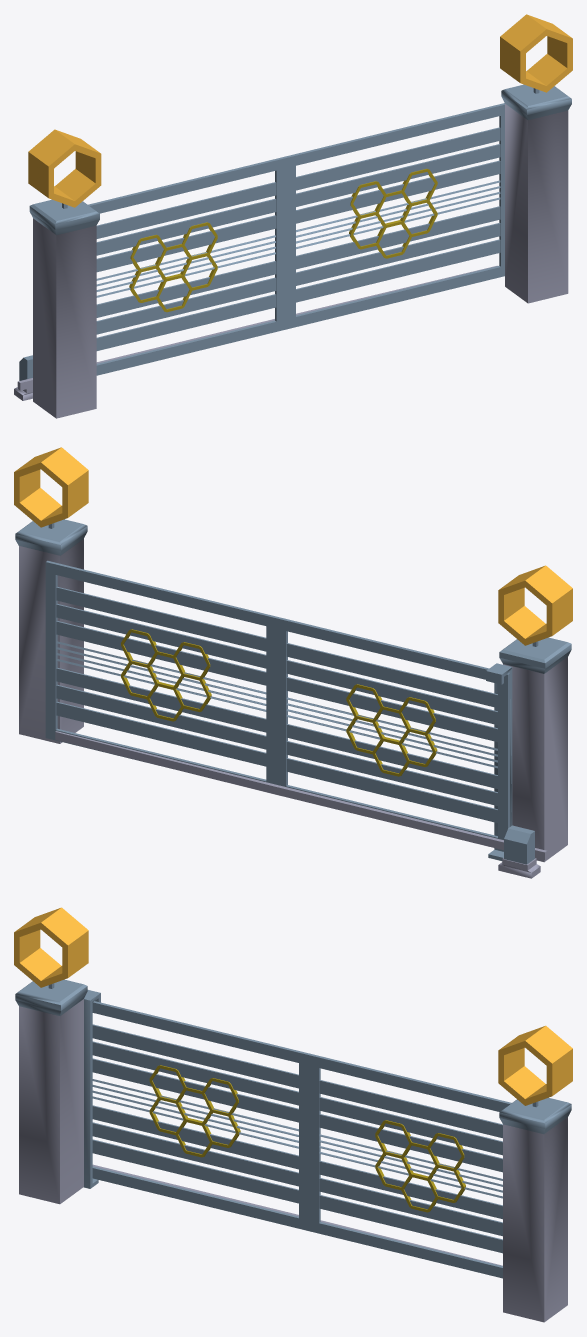
Rendered from FENCES_GATES1.FBX.
The picture shows the model from 3 angles, top to bottom: view 1: azimuth 30°, elevation 25°; view 2: azimuth 150°, elevation 25°; view 3: azimuth 330°, elevation 25°; orthographic projection. The views are drawn at different scales.
Visible parts, largest first — view 1: GATES, FENCES_GATES; view 2: GATES, FENCES_GATES; view 3: GATES, FENCES_GATES.
Boxes of the visible parts, left/top/right/bottom form: GATES: left=18, top=103, right=504, bottom=390; FENCES_GATES: left=14, top=14, right=572, bottom=418; GATES: left=45, top=560, right=547, bottom=860; FENCES_GATES: left=14, top=447, right=572, bottom=878; GATES: left=92, top=1001, right=511, bottom=1278; FENCES_GATES: left=14, top=907, right=572, bottom=1322.
Size of the model in its own units: 308 by 40.87 by 152.
